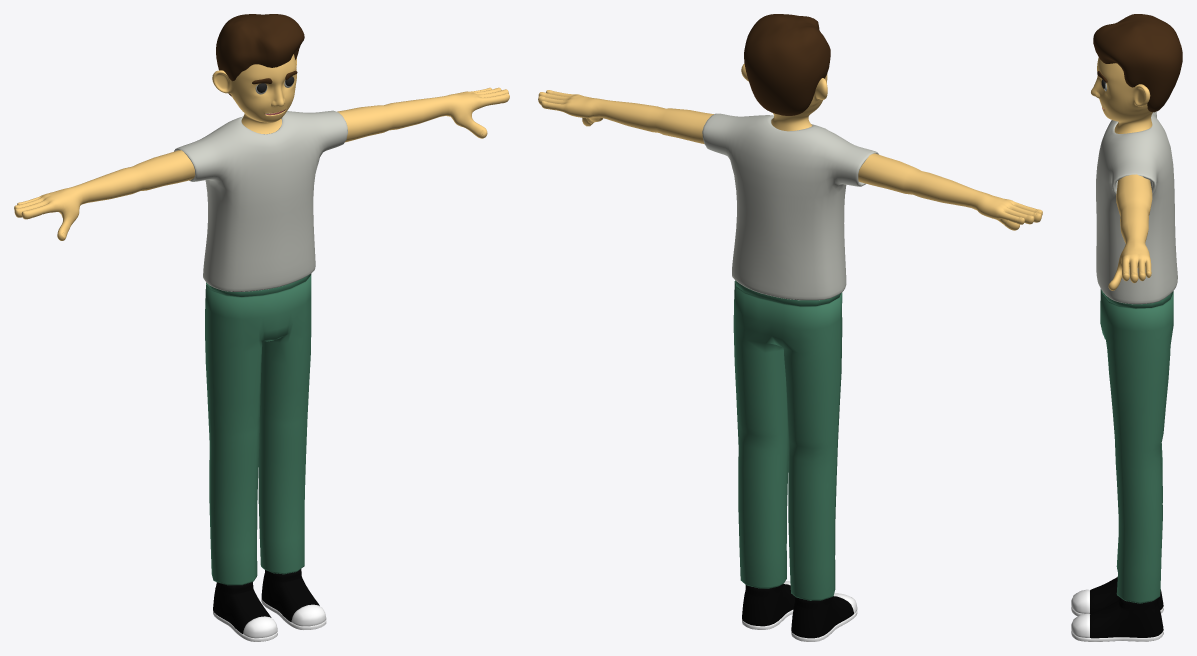
File: Client.glb
The picture shows the model from 3 angles, left to right: view 1: azimuth 30°, elevation 25°; view 2: azimuth 150°, elevation 25°; view 3: azimuth 270°, elevation 25°; orthographic projection.
Visible parts, largest first — view 1: Body; view 2: Body; view 3: Body.
Part boxes in pixels (box(x1,y1,x2,y2)): Body: box(14, 14, 509, 641); Body: box(538, 14, 1042, 641); Body: box(1071, 14, 1182, 641).
Bounding box in the file's own units: 2.01 × 2.32 × 0.3892.
